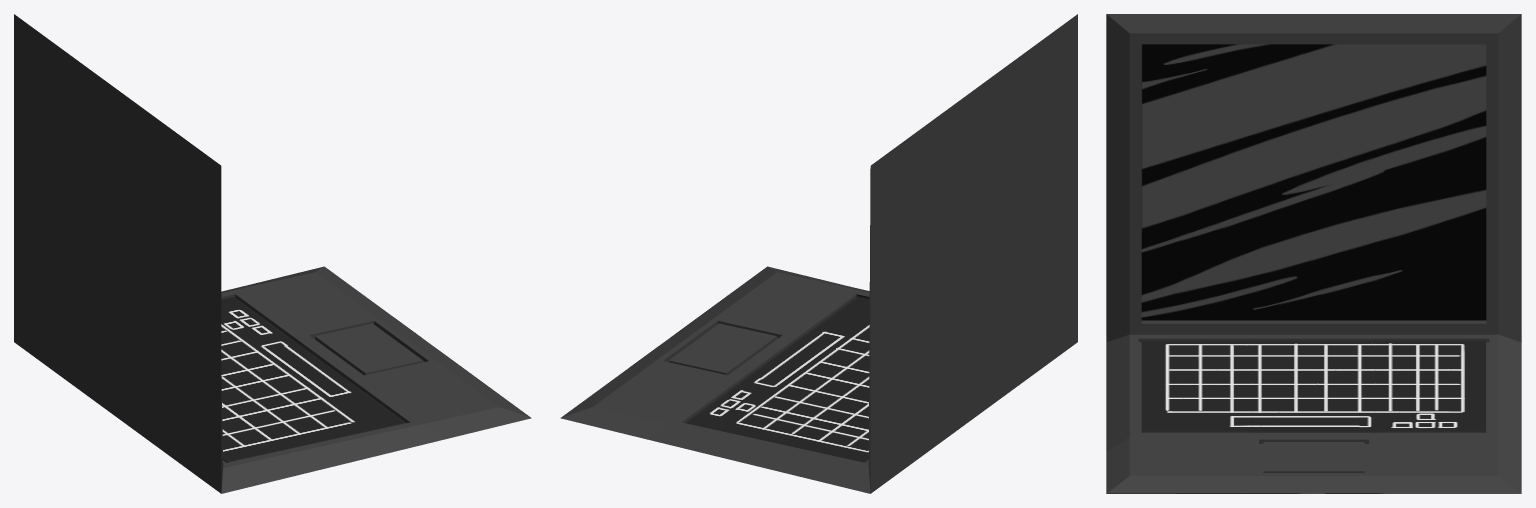
Rendered from LaptopGB.glb.
3 renders of one model, left to right at view 1: azimuth 30°, elevation 25°; view 2: azimuth 150°, elevation 25°; view 3: azimuth 270°, elevation 25°, orthographic.
Parts seen in each view (by area): view 1: Cube; view 2: Cube; view 3: Cube.
Boxes of the visible parts, <box> form: Cube: <box>14,14,531,493</box>; Cube: <box>560,14,1077,493</box>; Cube: <box>1106,14,1521,493</box>.
Bounding box in the file's own units: 1.73 × 1.75 × 2.
1 material, 1 textured.
